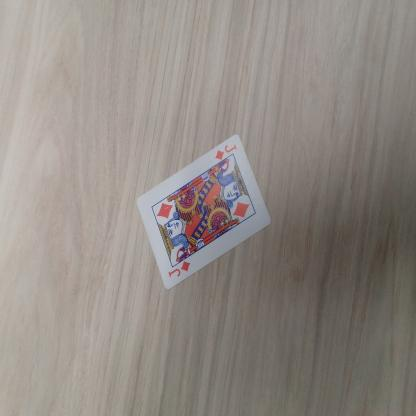JD: (206, 138, 246, 172), (163, 253, 198, 289)
